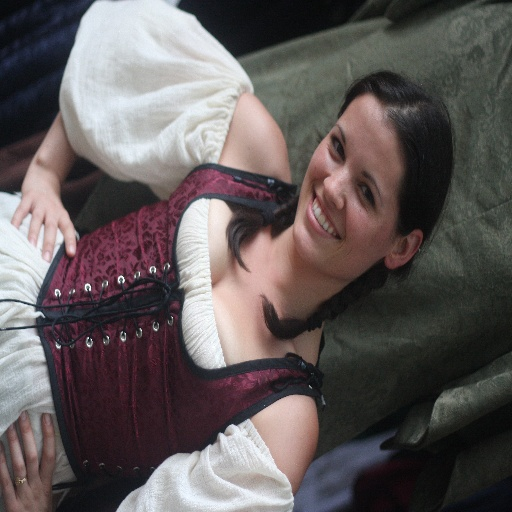hand: (9, 168, 78, 266), (4, 404, 67, 506)
